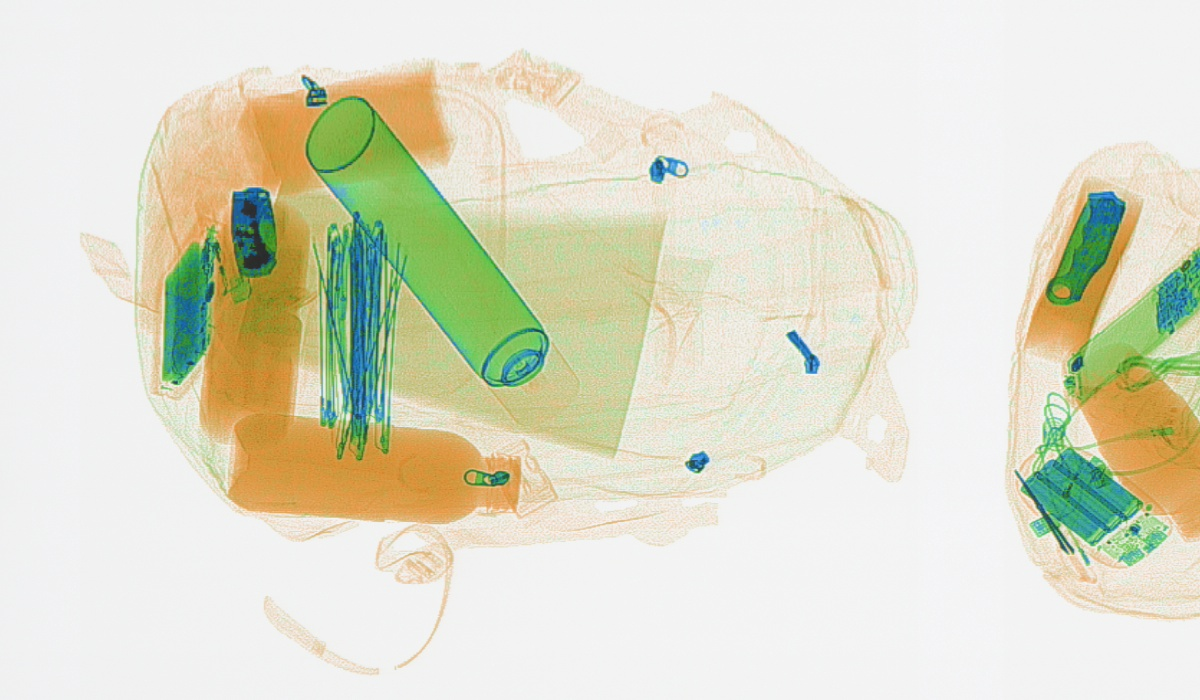knife: (1043, 187, 1125, 307), (225, 180, 277, 279)
lighter: (192, 180, 256, 303)
powerbank: (1016, 440, 1176, 572)
pressure: (303, 91, 581, 429)
scissors: (1013, 463, 1099, 585)
